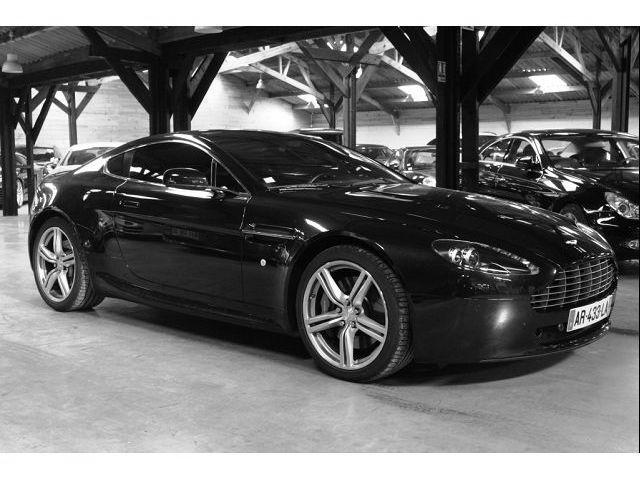car: (24, 122, 631, 411)
